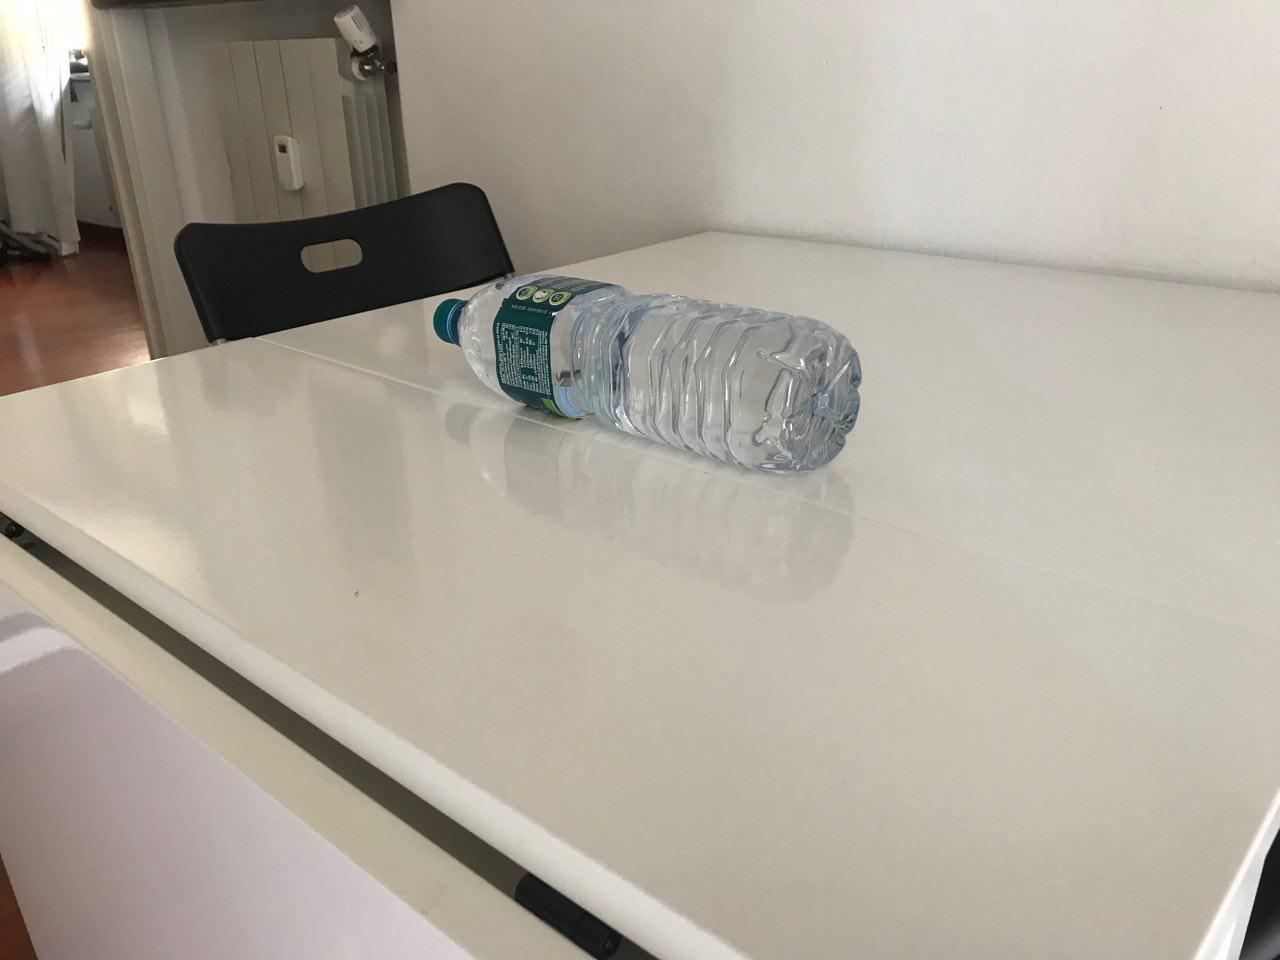san_bernardo: (431, 273, 864, 476)
